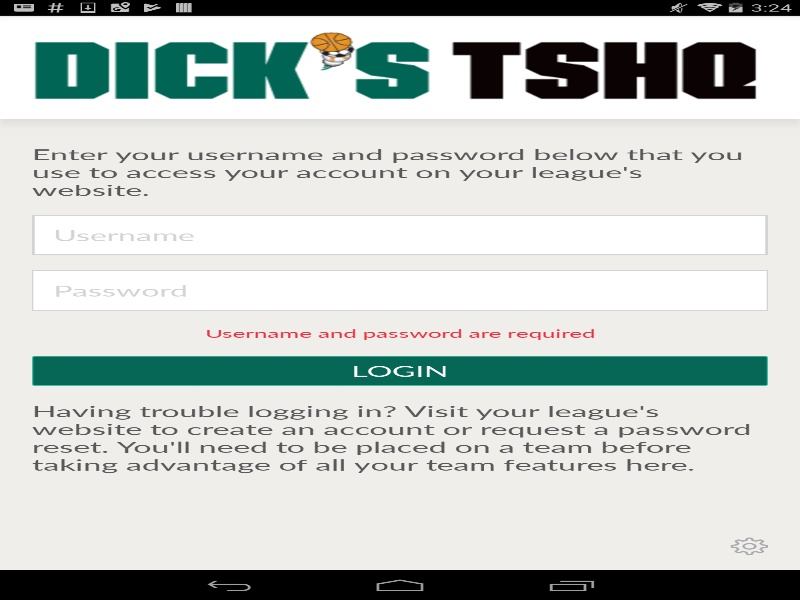Button: (32, 355, 768, 385)
Input: (32, 215, 768, 255), (32, 270, 768, 310)
